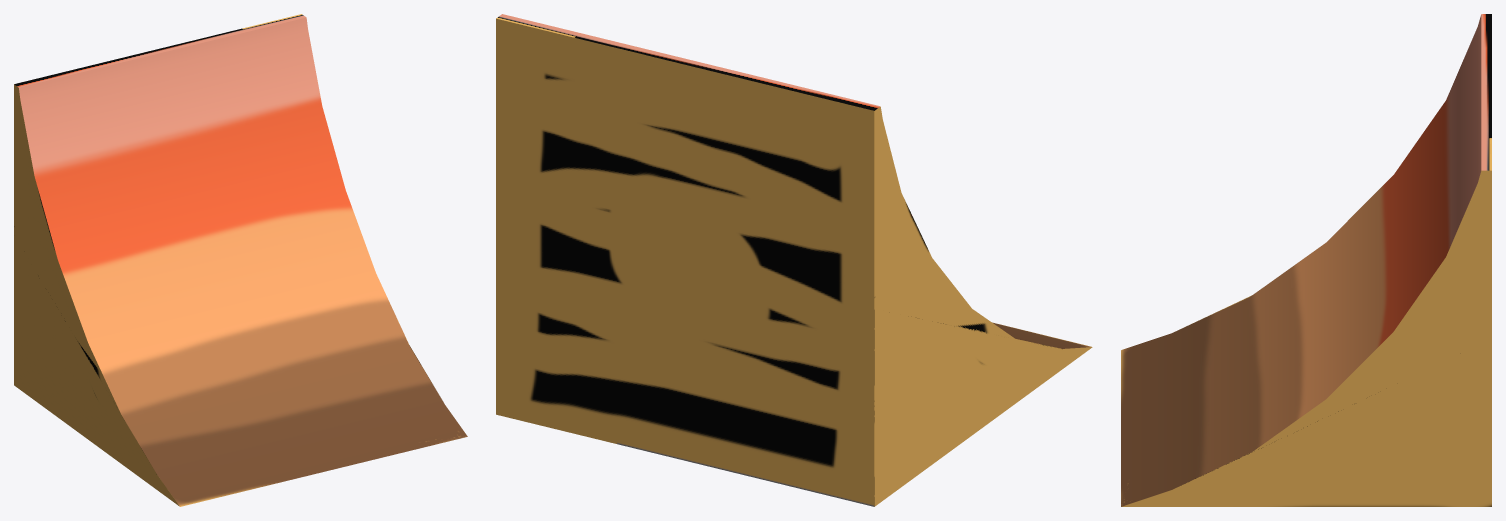
Rendered from Test Ramp.fbx.
3 renders of one model, left to right at view 1: azimuth 30°, elevation 25°; view 2: azimuth 150°, elevation 25°; view 3: azimuth 270°, elevation 25°, orthographic. The views are drawn at different scales.
Parts seen in each view (by area): view 1: Test Ramp; view 2: Test Ramp; view 3: Test Ramp.
Part boxes in pixels (x1,y1,x2,y2): Test Ramp: [14, 14, 467, 506]; Test Ramp: [496, 14, 1092, 506]; Test Ramp: [1121, 14, 1491, 506].
Bounding box in the file's own units: 200 × 200 × 200.
1 material, 1 textured.
